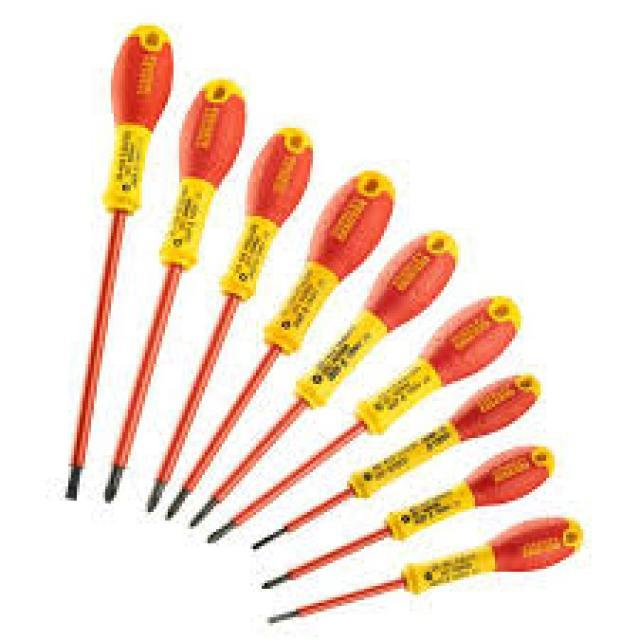screwdriver: (165, 162, 398, 529), (185, 228, 464, 534), (203, 294, 525, 550), (141, 121, 320, 522), (96, 74, 248, 509), (61, 19, 175, 503), (252, 372, 544, 554), (256, 445, 558, 593), (266, 514, 590, 628)
